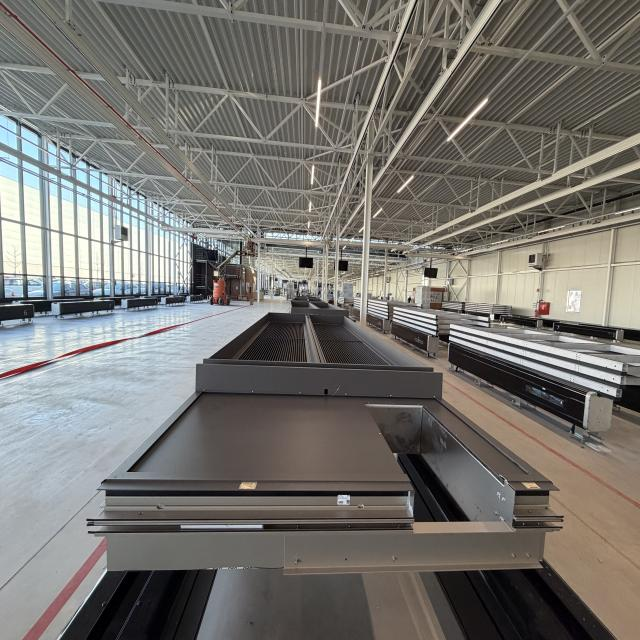vijak_na_pola_pritegnut: (288, 549, 309, 577)
vijak_nedostaje: (338, 544, 357, 572)
